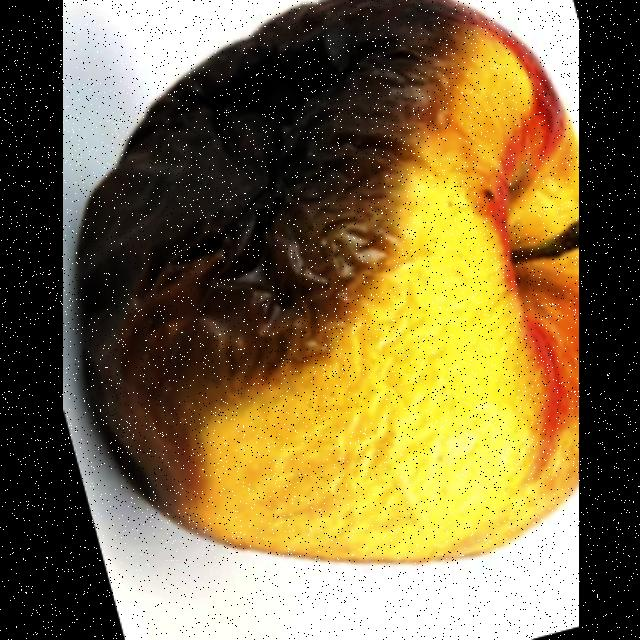Apel Tidak Segar: (80, 1, 578, 564)
